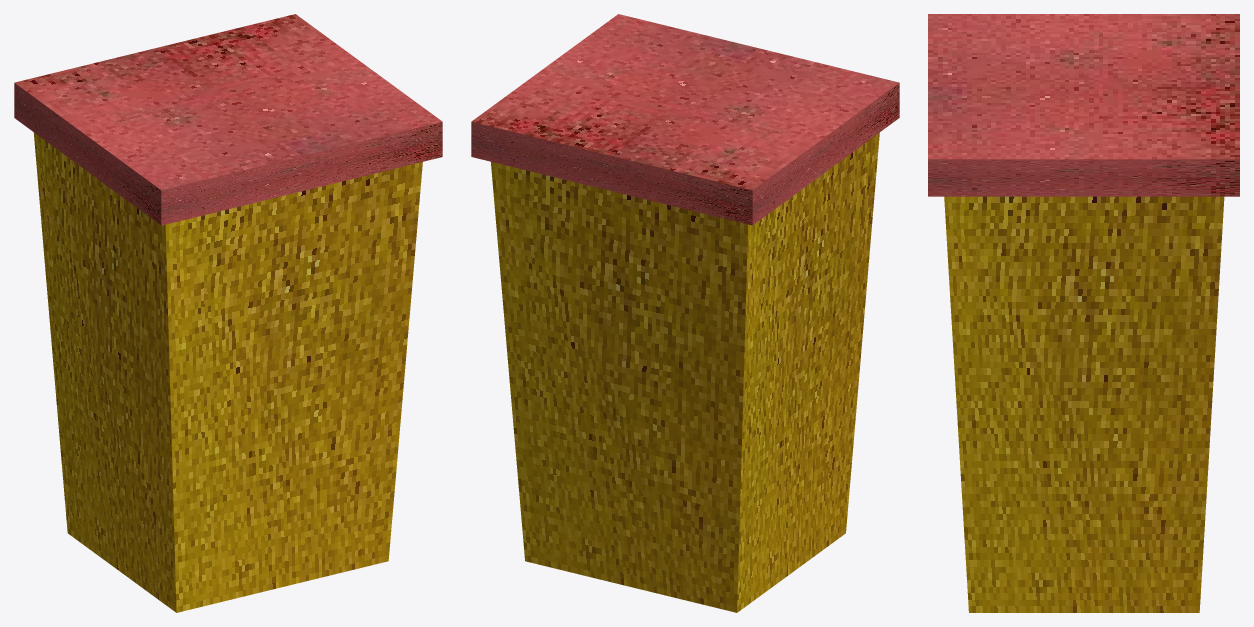
The model's file is clean_bucked.glb.
The picture shows the model from 3 angles, left to right: view 1: azimuth 30°, elevation 25°; view 2: azimuth 150°, elevation 25°; view 3: azimuth 270°, elevation 25°; orthographic projection. The views are drawn at different scales.
Parts seen in each view (by area): view 1: Куб; view 2: Куб; view 3: Куб.
Boxes of the visible parts, x1,y1,x2,y2 form: Куб: (14, 14, 442, 612); Куб: (471, 14, 899, 612); Куб: (928, 14, 1239, 612).
Size of the model in its own units: 20.23 by 30.58 by 18.33.
Materials: 2 (2 with a texture image).
